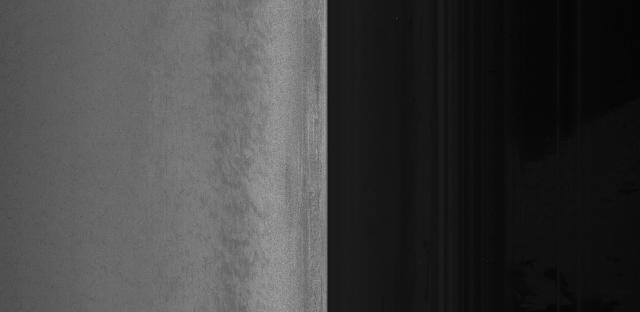silk_spot: (217, 122, 267, 208)
